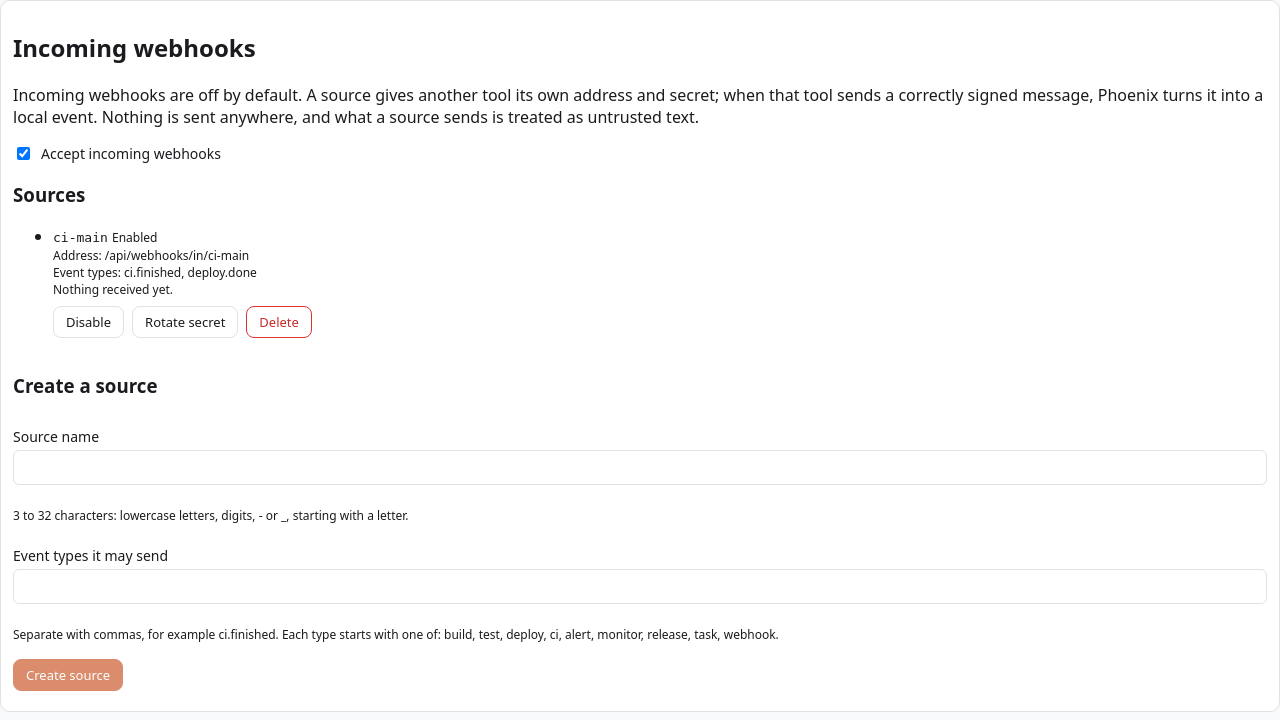
Test case: incoming webhook sources settings › shows Core's error when deleting fails and keeps the source
expect the text "ci-main" is shown: met, box [53,230,108,245]
Click the button with aria-label "Delete source ci-main" at (279, 322), box [246,306,312,338]
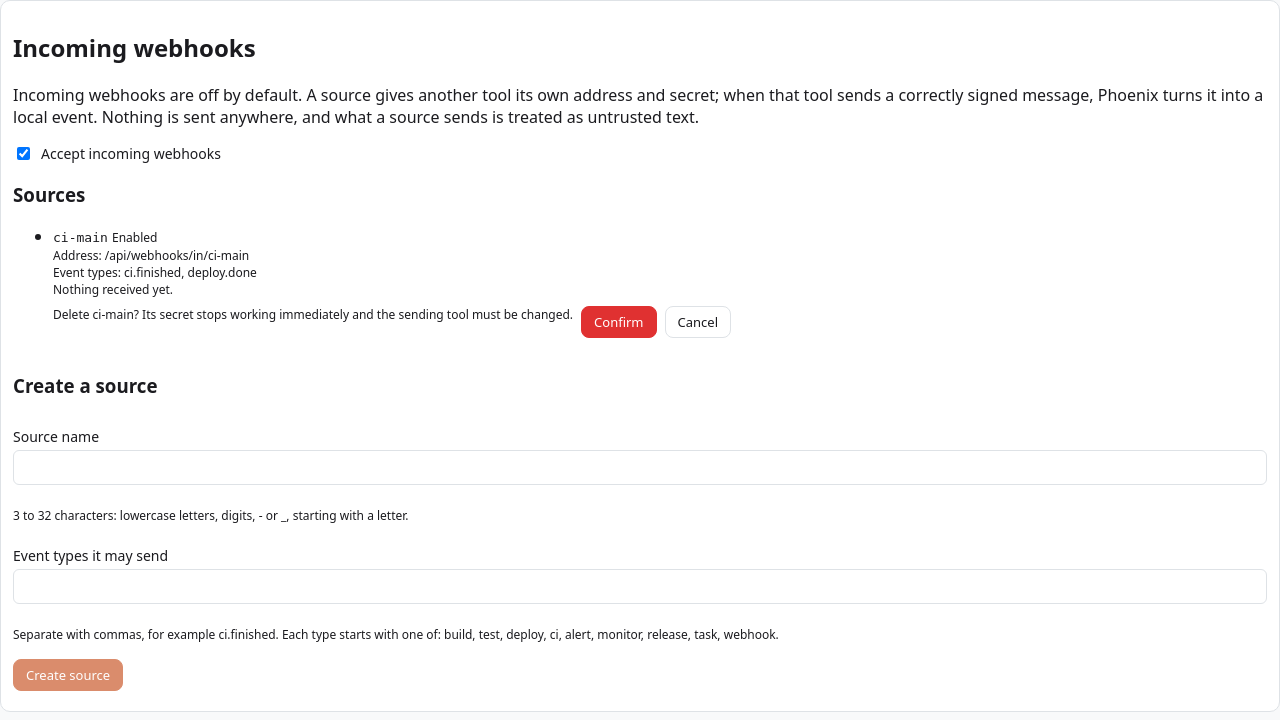
Click the button "Confirm" at (619, 322), box [581,306,657,338]
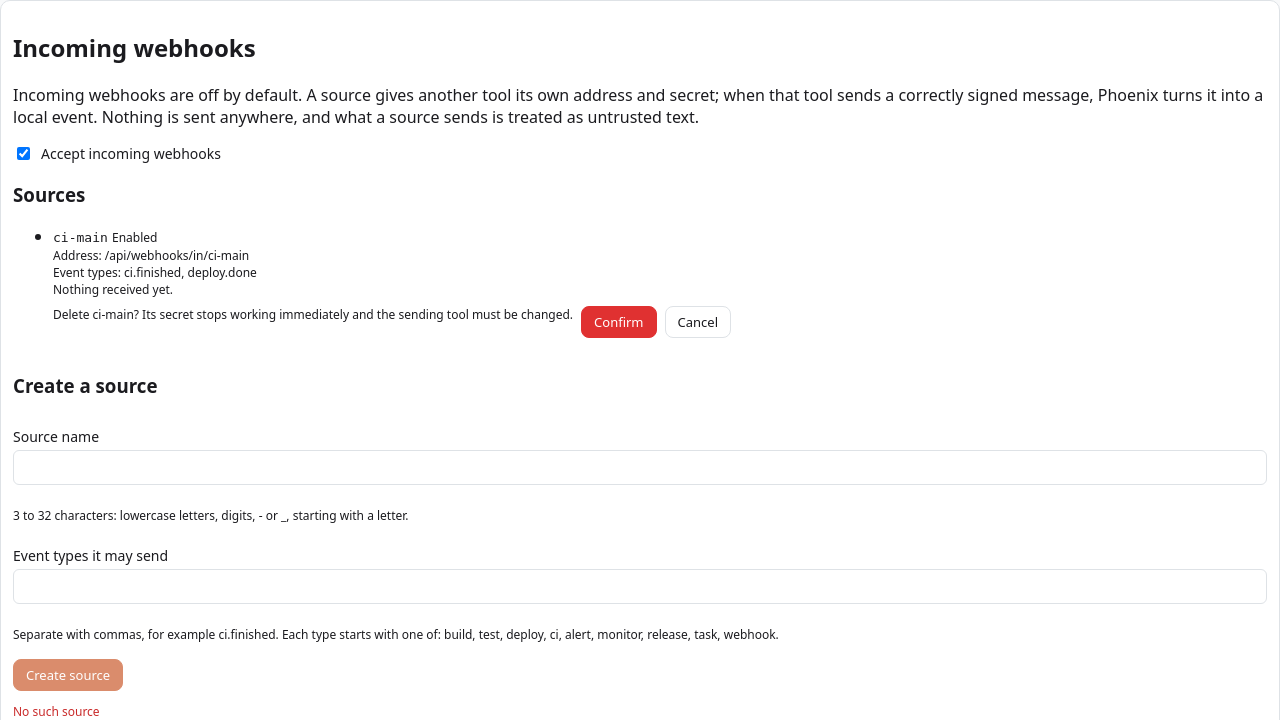
expect the text "ci-main" is shown: met, box [53,230,108,245]
expect the message reads "No such source": met, box [13,703,100,719]
